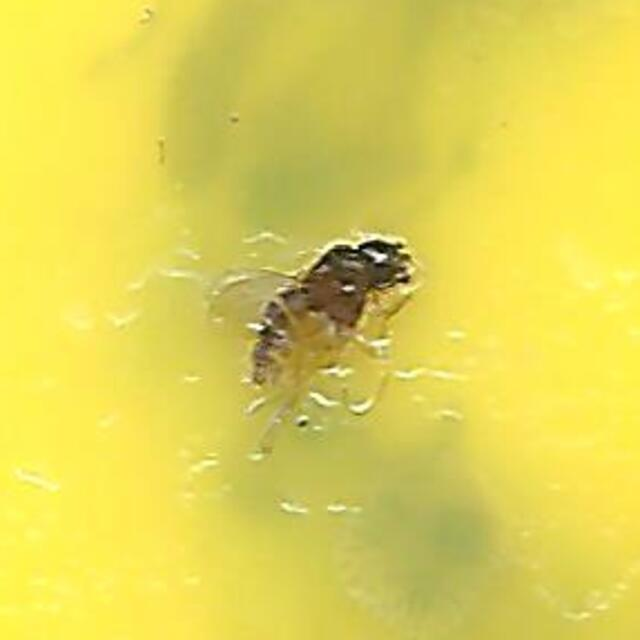Brachycera: (223, 225, 417, 415)
